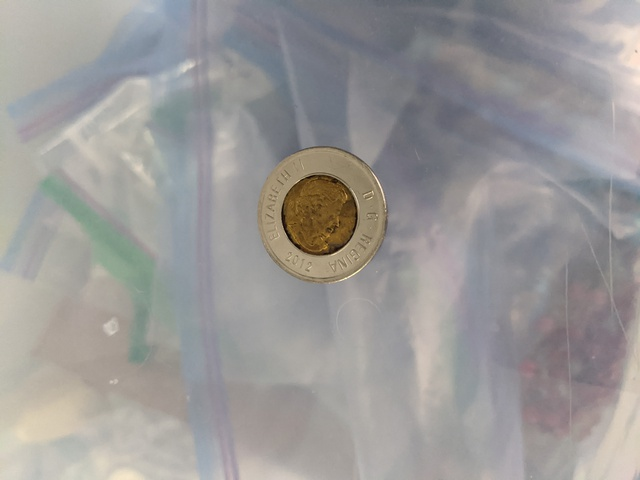twonie: (256, 145, 396, 287)
